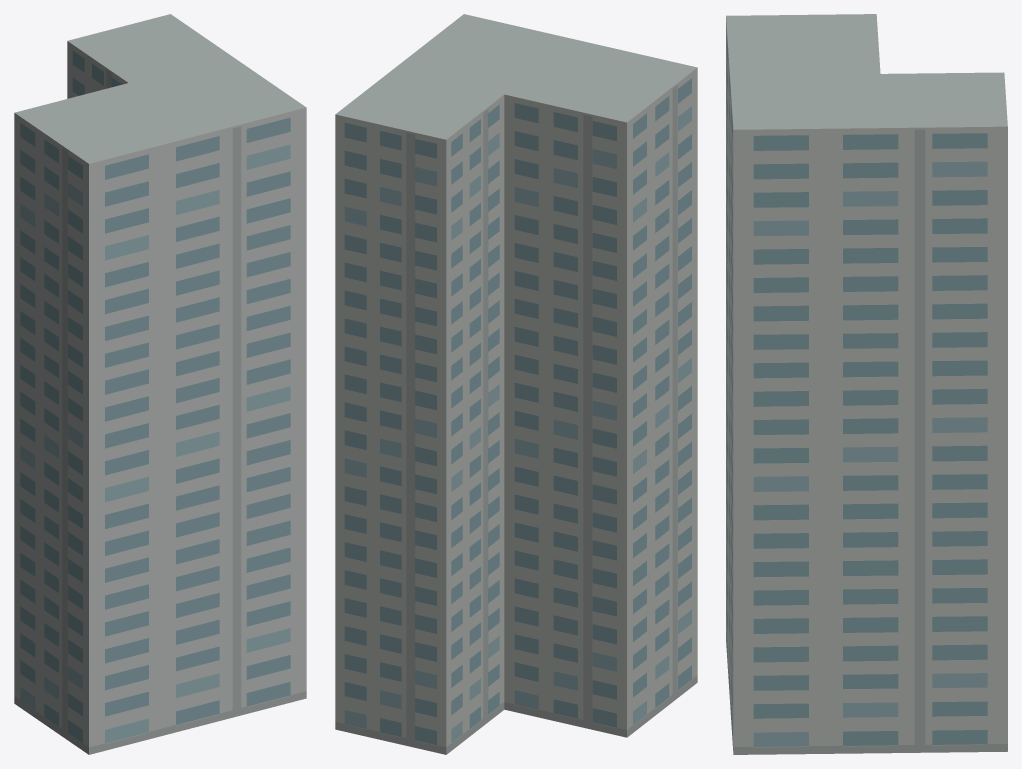
The model's file is residential-52f05bfe-3282-4cc9-bb9b-98fe671071f4.glb.
3 views of the same model, side by side, from view 1: azimuth 30°, elevation 25°; view 2: azimuth 150°, elevation 25°; view 3: azimuth 270°, elevation 25° (orthographic). The views are drawn at different scales.
Parts seen in each view (by area): view 1: residential-52f05bfe-3282-4cc9-bb9b-98fe671071f4.tmp; view 2: residential-52f05bfe-3282-4cc9-bb9b-98fe671071f4.tmp; view 3: residential-52f05bfe-3282-4cc9-bb9b-98fe671071f4.tmp.
Boxes of the visible parts, bbox=[...] form: residential-52f05bfe-3282-4cc9-bb9b-98fe671071f4.tmp: bbox=[14, 14, 306, 754]; residential-52f05bfe-3282-4cc9-bb9b-98fe671071f4.tmp: bbox=[335, 14, 697, 754]; residential-52f05bfe-3282-4cc9-bb9b-98fe671071f4.tmp: bbox=[726, 14, 1007, 754].
Size of the model in its own units: 30.61 by 77 by 31.47.
